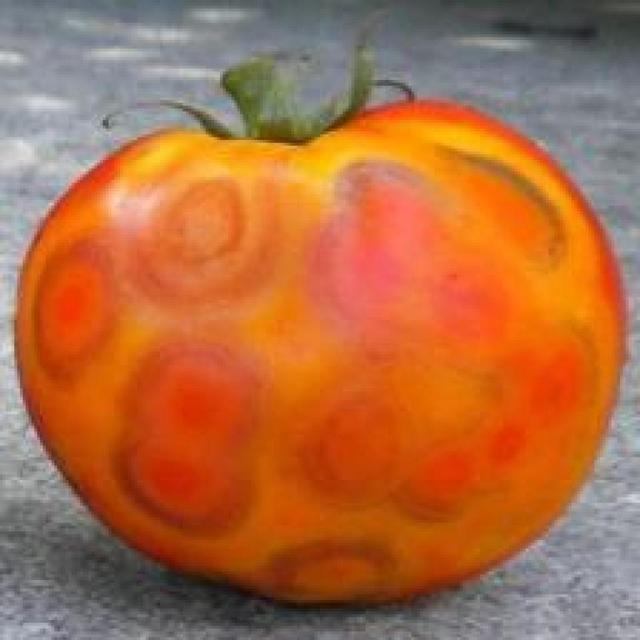Spotted wilt Virus Fruit: (8, 66, 419, 403)
